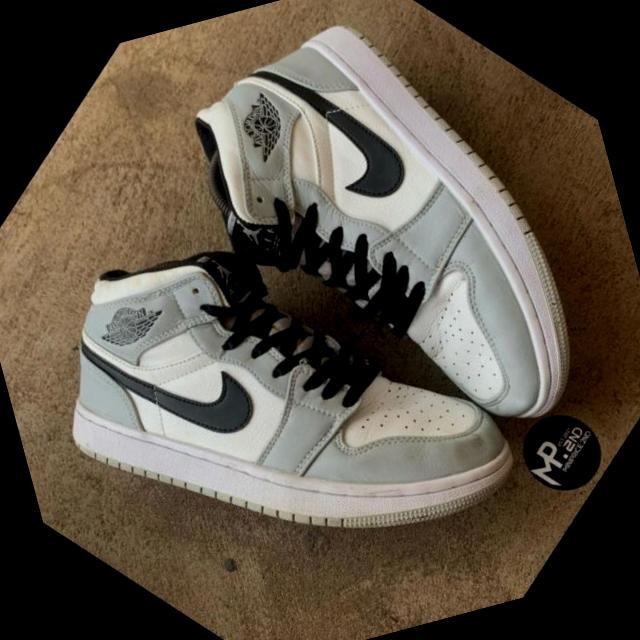nike_fake_jordan: (0, 113, 572, 640), (113, 0, 640, 521)
